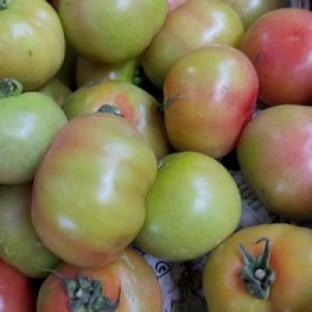Tomato: (31, 112, 157, 267), (136, 152, 240, 261), (163, 45, 259, 158), (204, 223, 311, 311), (237, 105, 311, 220), (63, 78, 169, 158), (37, 248, 162, 311), (240, 7, 311, 105), (0, 80, 66, 183), (0, 183, 59, 278), (0, 258, 37, 311), (76, 56, 137, 87), (37, 77, 72, 105)
